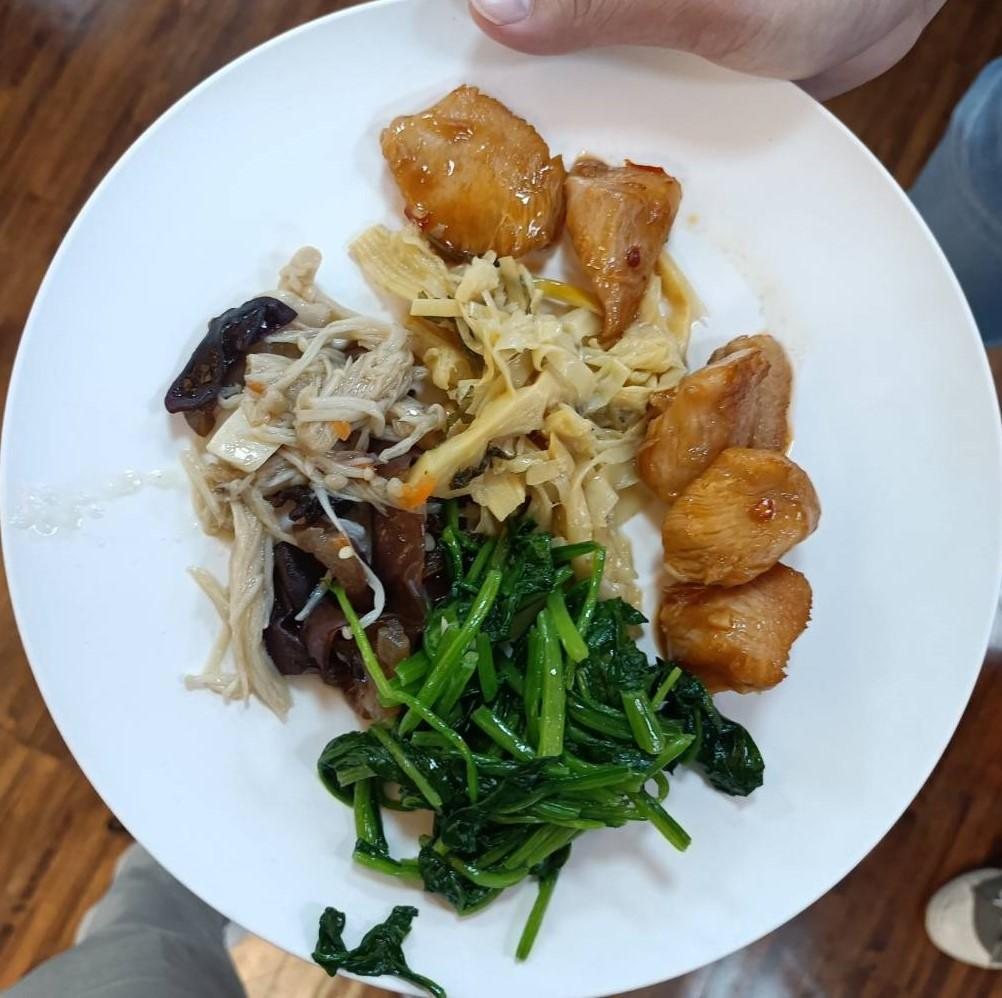big fried chicken leg: (8, 2, 1002, 998)
braised fish fillet: (328, 516, 767, 906), (166, 248, 429, 705), (350, 226, 676, 529)
braised pork: (378, 78, 826, 698)
